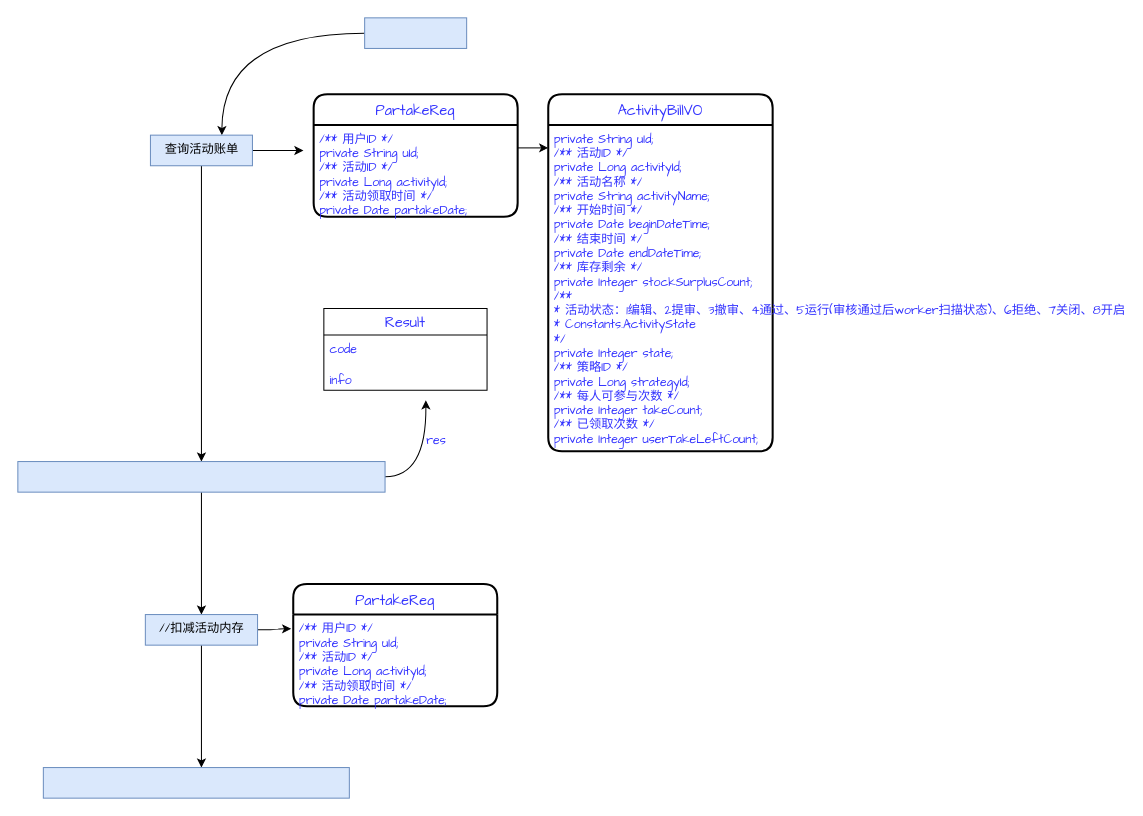
This 1143x816 diagram has some shape labels left out. The centre of each missing label's shape, as x and y in pixels:
"//活动信息校验处理【活动库存、状态、日期、个人参与次数】" goes at pixel 201 476.
"//领取活动信息，个人用户把活动信息写入到用户表" goes at pixel 195 782.
"领取活动领域" goes at pixel 415 32.
